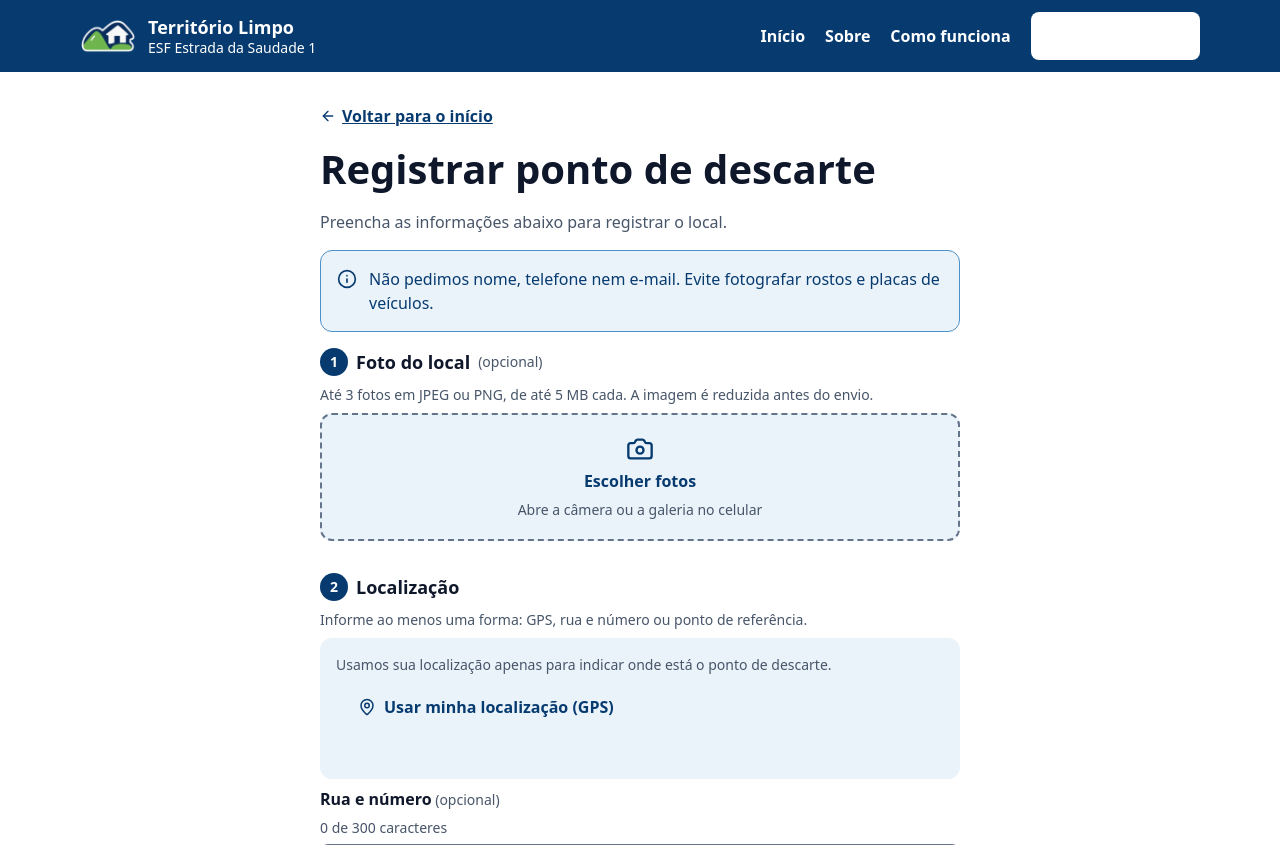
Registrar — validação no cliente › orienta quando o GPS não está disponível
The width and height of the screenshot is (1280, 845).
Click the button "Usar minha localização (GPS)". click: (486, 707)
box: [336,683,636,731]
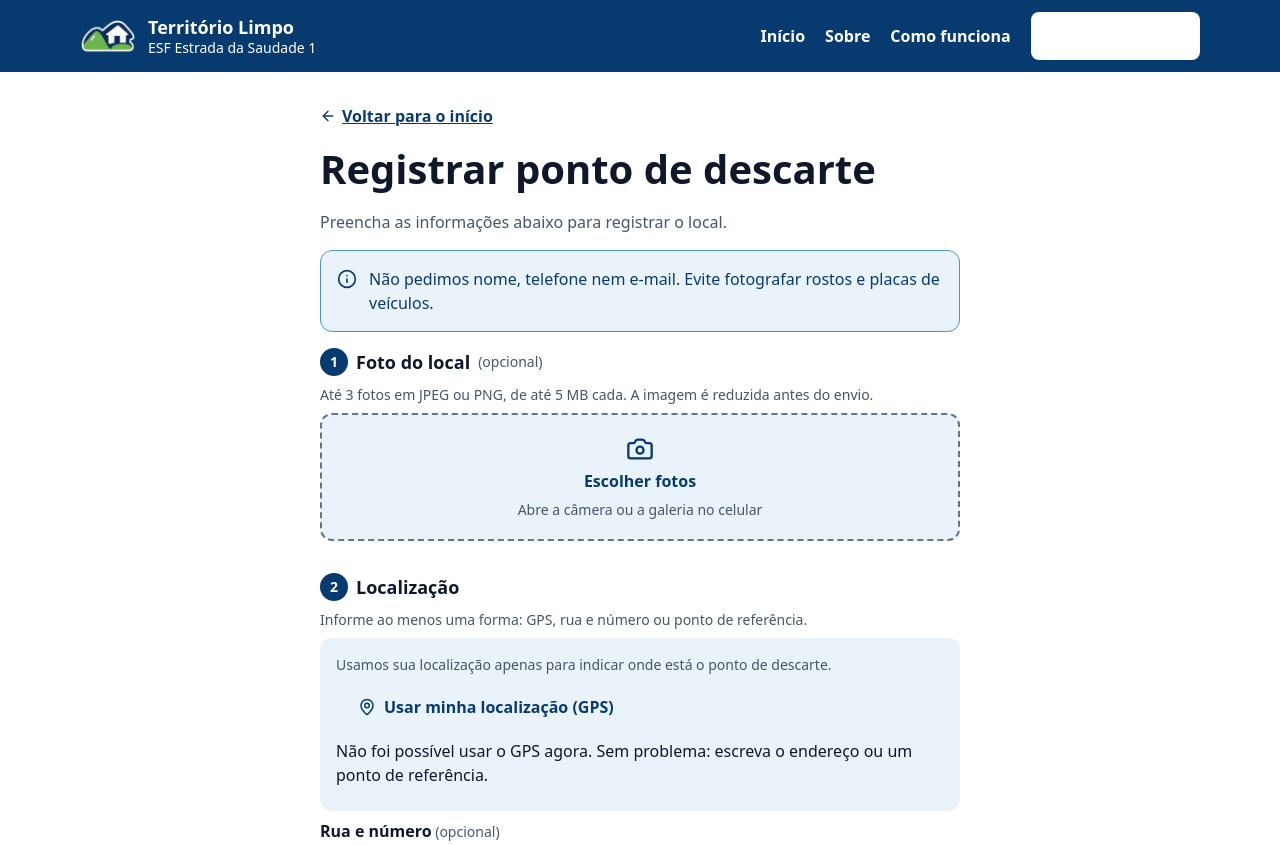
Now the text "Sem problema: escreva o endereço" is shown, box [336,740,912,786]
